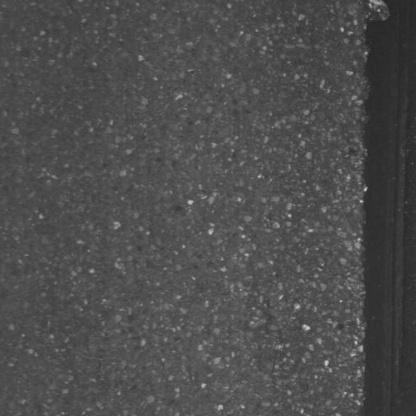Cracks: (383, 0, 416, 416)
